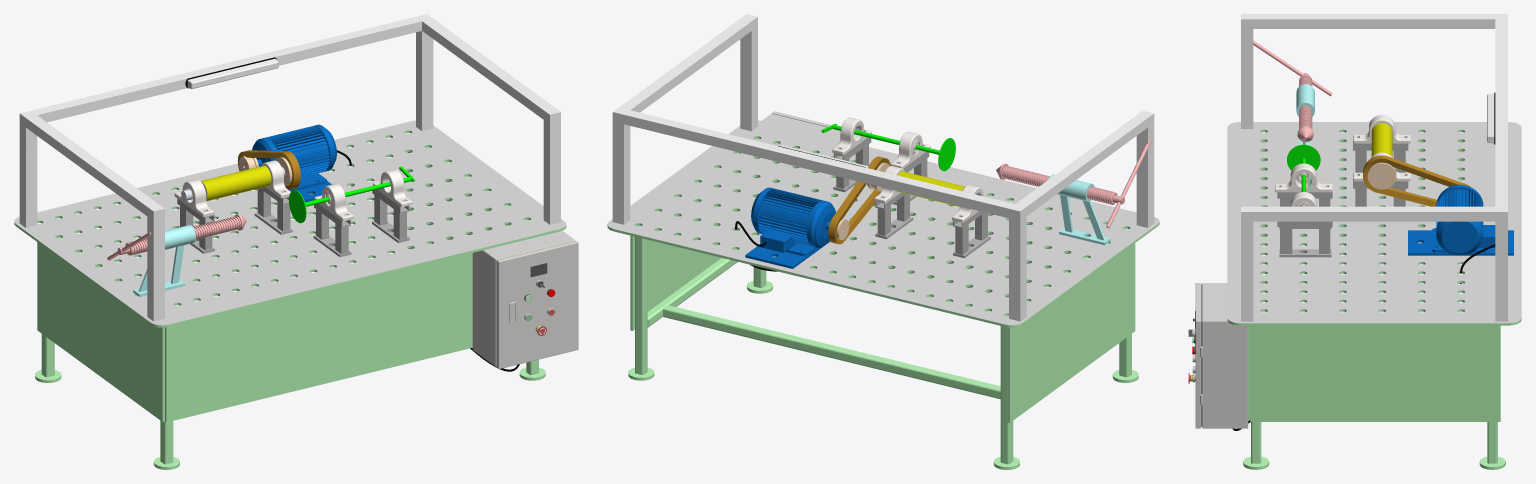
Rendered from wash_deburr_detail.glb.
3 views of the same model, side by side, from view 1: azimuth 30°, elevation 25°; view 2: azimuth 150°, elevation 25°; view 3: azimuth 270°, elevation 25° (orthographic).
Visible parts, largest first — view 1: WEld Table Custom 1600X900 (1)-1, Electric Control Box 2-1, Moteur_Electrique (2)-1, brosse abrasive-1, s1-1, sup1-1, sup1-1_node, Samsung Led Lamb 12v 15cm-1, sup1-1_node_0, vis sans fin-1, arbre 1-1, manche-1 (+4 smaller); view 2: WEld Table Custom 1600X900 (1)-1, Moteur_Electrique (2)-1, s1-1, Courroie1-1^Assemblage final-1, vis sans fin-1, sup1-1_node_0, sup1-1_node_1, arbre 1-1, Electric Control Box 2-1, manche-1, sup1-1, manche-1_node; view 3: WEld Table Custom 1600X900 (1)-1, Electric Control Box 2-1, Moteur_Electrique (2)-1, Courroie1-1^Assemblage final-1, sup1-1, manche-1_node, arbre 1-1, sup1-1_node_1, poulie receptrice (1)-2, brosse abrasive-1, vis sans fin-1, manche-1_node_1 (+5 smaller).
Boxes of the visible parts, x1=… form: WEld Table Custom 1600X900 (1)-1: x1=14, y1=14, x2=566, y2=469; Electric Control Box 2-1: x1=472, y1=230, x2=578, y2=369; Moteur_Electrique (2)-1: x1=252, y1=124, x2=336, y2=202; brosse abrasive-1: x1=181, y1=165, x2=285, y2=201; s1-1: x1=133, y1=225, x2=195, y2=296; sup1-1: x1=372, y1=189, x2=409, y2=242; sup1-1_node: x1=313, y1=204, x2=351, y2=257; Samsung Led Lamb 12v 15cm-1: x1=185, y1=57, x2=278, y2=89; sup1-1_node_0: x1=254, y1=187, x2=292, y2=234; vis sans fin-1: x1=117, y1=214, x2=246, y2=255; arbre 1-1: x1=289, y1=166, x2=414, y2=223; manche-1: x1=373, y1=169, x2=412, y2=207; WEld Table Custom 1600X900 (1)-1: x1=607, y1=14, x2=1159, y2=469; Moteur_Electrique (2)-1: x1=745, y1=187, x2=835, y2=268; s1-1: x1=1048, y1=174, x2=1110, y2=245; Courroie1-1^Assemblage final-1: x1=828, y1=156, x2=890, y2=244; vis sans fin-1: x1=996, y1=163, x2=1124, y2=204; sup1-1_node_0: x1=875, y1=192, x2=913, y2=239; sup1-1_node_1: x1=953, y1=211, x2=990, y2=258; arbre 1-1: x1=821, y1=124, x2=955, y2=171; Electric Control Box 2-1: x1=761, y1=111, x2=840, y2=139; manche-1: x1=832, y1=117, x2=871, y2=155; sup1-1: x1=833, y1=137, x2=871, y2=192; manche-1_node: x1=891, y1=131, x2=930, y2=168; WEld Table Custom 1600X900 (1)-1: x1=1227, y1=14, x2=1521, y2=469; Electric Control Box 2-1: x1=1188, y1=283, x2=1248, y2=428; Moteur_Electrique (2)-1: x1=1408, y1=184, x2=1513, y2=255; Courroie1-1^Assemblage final-1: x1=1363, y1=155, x2=1470, y2=206; sup1-1: x1=1277, y1=221, x2=1332, y2=257; manche-1_node: x1=1275, y1=163, x2=1332, y2=192; arbre 1-1: x1=1287, y1=144, x2=1320, y2=191; sup1-1_node_1: x1=1353, y1=143, x2=1408, y2=172; poulie receptrice (1)-2: x1=1367, y1=162, x2=1396, y2=189; brosse abrasive-1: x1=1371, y1=123, x2=1392, y2=156; vis sans fin-1: x1=1297, y1=73, x2=1313, y2=141; manche-1_node_1: x1=1353, y1=114, x2=1410, y2=143.
Bounding box in the file's own units: 1.81 × 1.1 × 1.27.
